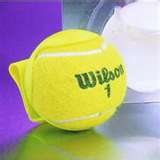tennis ball: (26, 29, 128, 132)
